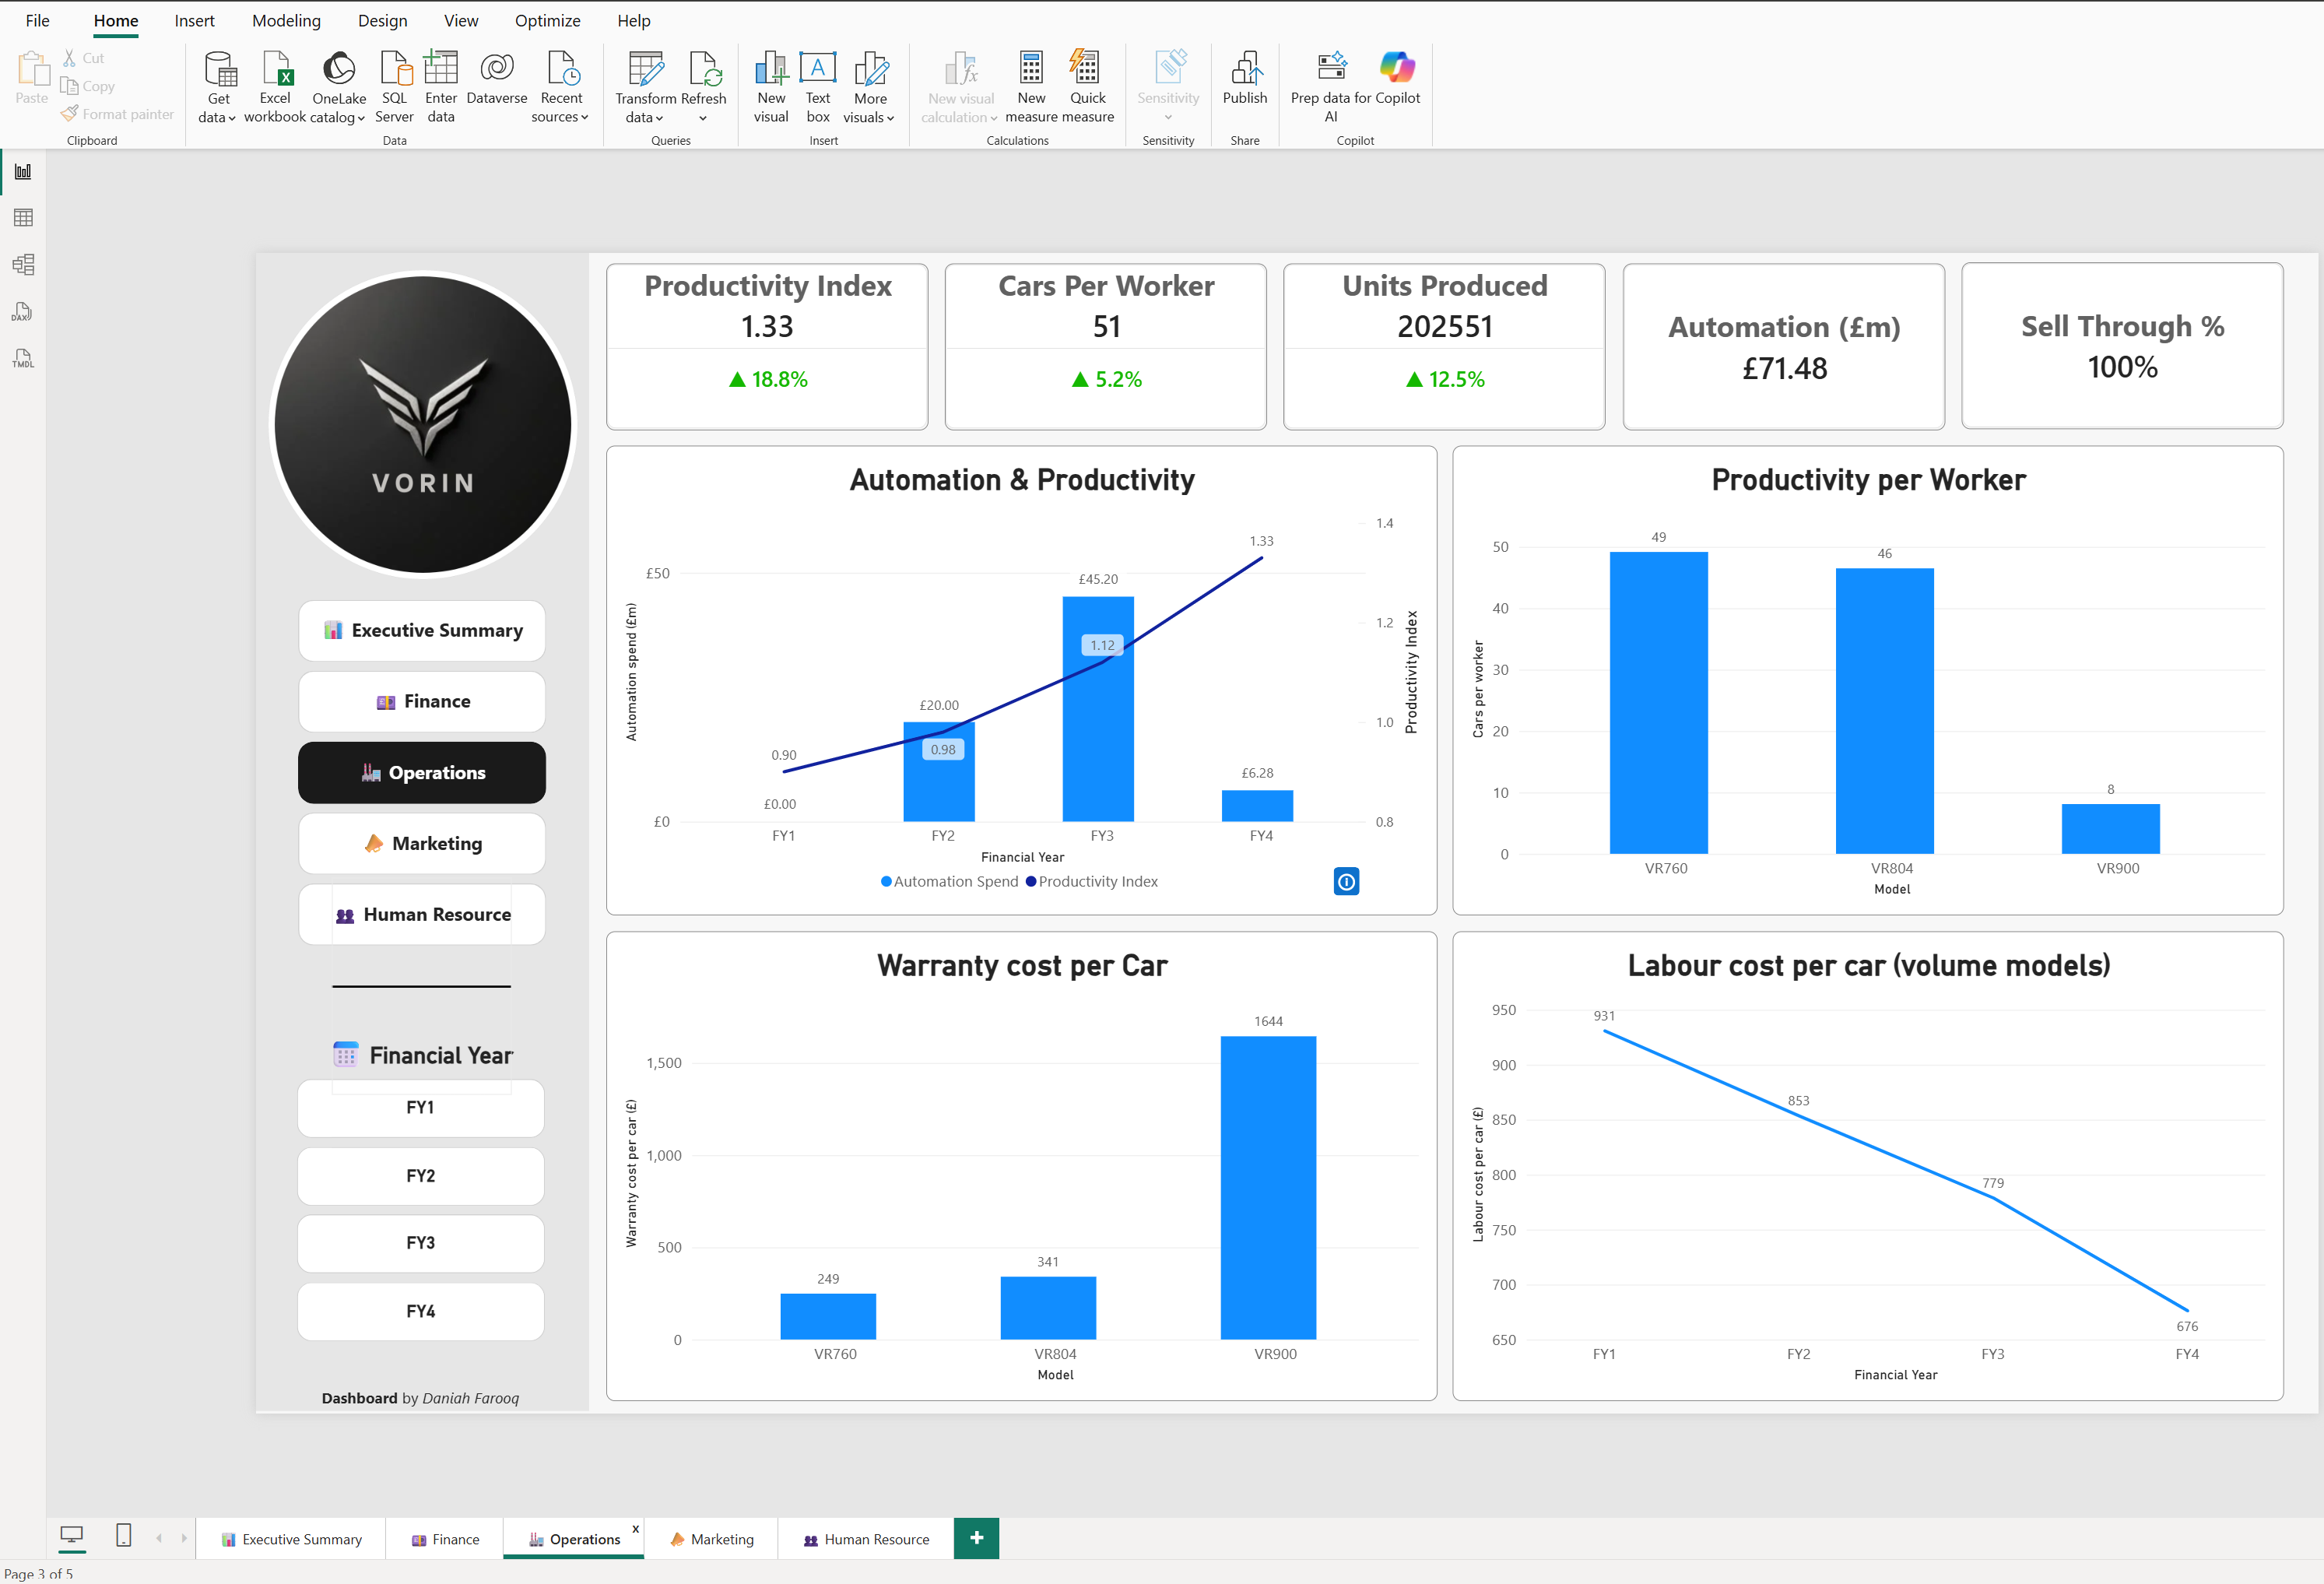

The page's visual inventory and layout, read from the dashboard file:
{"tool":"powerbi","page":{"name":"🏭 Operations","canvas":[1920,1080],"ordinal":2},"visuals":[{"type":"lineClusteredColumnComboChart","title":"Automation & Productivity","fields":{"Category":["Rounds.Financial Year"],"Y":["_Measures.Automation Spend"],"Y2":["_Measures.Productivity Index"]},"box":[326,179,774,437],"z":0},{"type":"cardVisual","fields":{"Data":["_Measures.Productivity Index (Latest)"]},"box":[325.9,10.3,300,155],"z":1000},{"type":"cardVisual","fields":{"Data":["_Measures.Cars Per Worker (Latest)"]},"box":[641.4,10.3,300,155],"z":2000},{"type":"cardVisual","fields":{"Data":["_Measures.Sell Through %"]},"box":[1588,9,300,155],"z":3000},{"type":"cardVisual","fields":{"Data":["_Measures.Total Automation Invested"]},"box":[1272.5,10.3,300,155],"z":4000},{"type":"cardVisual","fields":{"Data":["_Measures.Units Produced (Latest)"]},"box":[956.9,10.3,300,155],"z":5000},{"type":"clusteredColumnChart","title":"Productivity per Worker","fields":{"Category":["Models.Model"],"Y":["Avg(Models.ProductivityPerWorker)"]},"box":[1114,179,774,437],"z":6000},{"type":"clusteredColumnChart","title":"Warranty cost per Car","fields":{"Category":["Models.Model"],"Y":["Avg(Models.WarrantyCostPerCar_GBP)"]},"box":[326,631,774,437],"z":7000},{"type":"shape","box":[0,0,310.2,1077.9],"z":9000},{"type":"image","box":[5.4,9.5,300,300],"z":10000},{"type":"pageNavigator","box":[38.8,322.6,231.1,322.6],"z":11000},{"type":"actionButton","box":[1002.8,571.5,24.3,26.4],"z":12000},{"type":"lineChart","title":"Labour cost per car (volume models)","fields":{"Category":["Rounds.Financial Year"],"Y":["_Measures.Avg Labour Cost Per Car"]},"box":[1114,631,774,437],"z":14000},{"type":"textbox","box":[58,1055,191,25],"z":15000},{"type":"advancedSlicerVisual","title":"📅 Financial Year","fields":{"Values":["Rounds.RoundLabel"]},"box":[38,728,231.1,286.9],"z":16000},{"type":"shape","box":[71,581,167,203],"z":17000}]}

Visuals, with their boxes on the page's 1920x1080 design canvas (x1, y1, x2, y2). These are canvas units, not pixel positions in the 2324x1584 screenshot, which may show the page scaled, cropped or inside an application window:
"Automation & Productivity" lineClusteredColumnComboChart: locate(326, 179, 1100, 616)
cardVisual - _Measures.Productivity Index (Latest): locate(326, 10, 626, 165)
cardVisual - _Measures.Cars Per Worker (Latest): locate(641, 10, 941, 165)
cardVisual - _Measures.Sell Through %: locate(1588, 9, 1888, 164)
cardVisual - _Measures.Total Automation Invested: locate(1272, 10, 1572, 165)
cardVisual - _Measures.Units Produced (Latest): locate(957, 10, 1257, 165)
"Productivity per Worker" clusteredColumnChart: locate(1114, 179, 1888, 616)
"Warranty cost per Car" clusteredColumnChart: locate(326, 631, 1100, 1068)
shape: locate(0, 0, 310, 1078)
image: locate(5, 10, 305, 310)
pageNavigator: locate(39, 323, 270, 645)
actionButton: locate(1003, 572, 1027, 598)
"Labour cost per car (volume models)" lineChart: locate(1114, 631, 1888, 1068)
textbox: locate(58, 1055, 249, 1080)
"📅 Financial Year" advancedSlicerVisual: locate(38, 728, 269, 1015)
shape: locate(71, 581, 238, 784)
